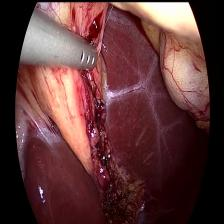Irrigator: (56, 31, 99, 80)
